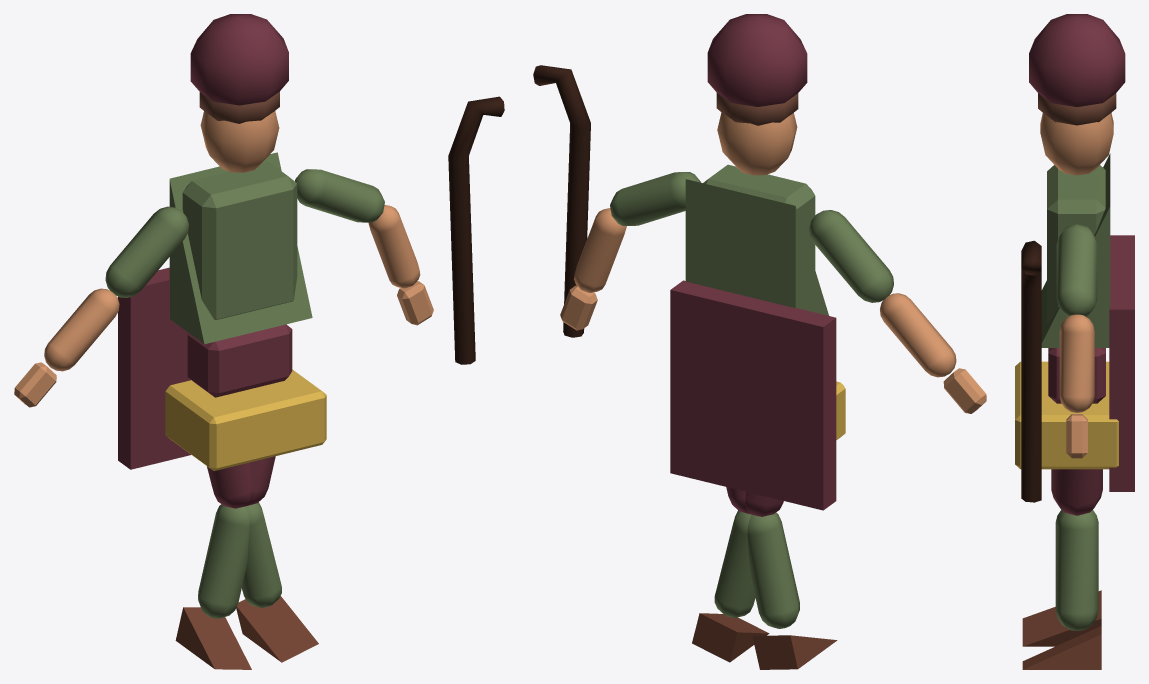
The model's file is adventurer.rustic.glb.
3 renders of one model, left to right at view 1: azimuth 30°, elevation 25°; view 2: azimuth 150°, elevation 25°; view 3: azimuth 270°, elevation 25°, orthographic.
Visible parts, largest first — view 1: torso, accessory.waist, accessory.back, accessory.head, tunic, accessory.main-hand, pelvis, shin.right, upper-arm.left, head, upper-arm.right, forearm.left (+9 smaller); view 2: accessory.back, tunic, accessory.head, accessory.main-hand, shin.right, upper-arm.left, head, forearm.left, upper-arm.right, torso, shin.left, forearm.right (+6 smaller); view 3: accessory.head, accessory.back, accessory.main-hand, accessory.waist, shin.left, torso, upper-arm.right, head, forearm.right, tunic, foot.left, thigh.right (+4 smaller).
Boxes of the visible parts, x1,y1,x2,y2 form: torso: [182, 162, 297, 319]; accessory.waist: [165, 369, 326, 470]; accessory.back: [118, 267, 191, 469]; accessory.head: [190, 14, 288, 105]; tunic: [169, 152, 312, 344]; accessory.main-hand: [448, 96, 504, 364]; pelvis: [187, 324, 292, 397]; shin.right: [198, 504, 249, 618]; upper-arm.left: [105, 206, 188, 297]; head: [200, 111, 279, 172]; upper-arm.right: [295, 169, 384, 222]; forearm.left: [44, 288, 119, 371]; accessory.back: [670, 280, 836, 510]; tunic: [685, 179, 828, 315]; accessory.head: [707, 14, 807, 106]; accessory.main-hand: [533, 65, 590, 337]; shin.right: [747, 512, 799, 628]; upper-arm.left: [809, 210, 893, 302]; head: [717, 112, 797, 175]; forearm.left: [880, 293, 956, 377]; upper-arm.right: [610, 172, 701, 225]; torso: [703, 164, 815, 269]; shin.left: [714, 510, 755, 617]; forearm.right: [574, 208, 626, 292]; accessory.head: [1029, 14, 1125, 106]; accessory.back: [1109, 235, 1134, 491]; accessory.main-hand: [1021, 240, 1041, 502]; accessory.waist: [1015, 361, 1118, 469]; shin.left: [1055, 511, 1098, 630]; torso: [1047, 165, 1105, 322]; upper-arm.right: [1056, 224, 1097, 316]; head: [1040, 113, 1113, 175]; forearm.right: [1059, 314, 1094, 412]; tunic: [1041, 153, 1110, 347]; foot.left: [1022, 626, 1101, 669]; thigh.right: [1051, 469, 1102, 515].
Size of the model in its own units: 2.52 by 3.28 by 0.56.
